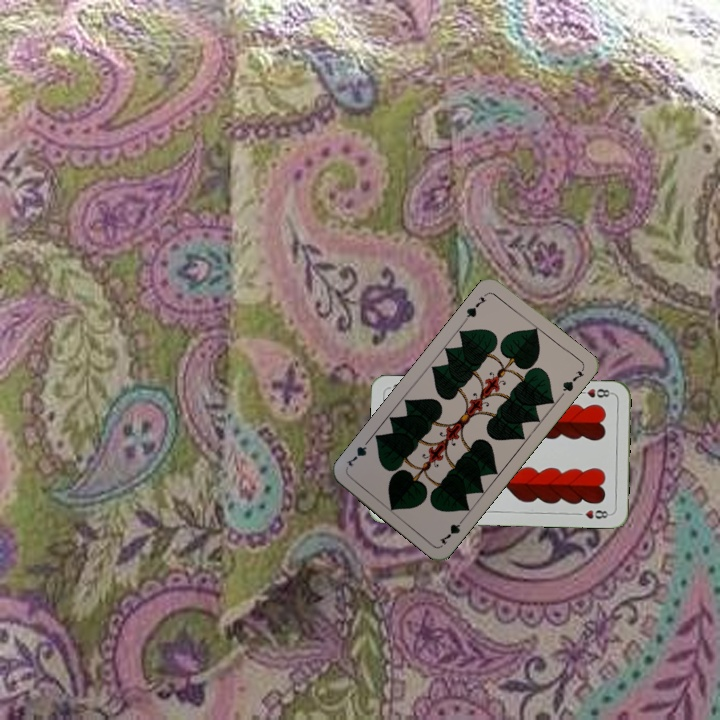G7: (435, 513, 468, 547), (461, 293, 489, 324)
H8: (574, 385, 615, 400)
